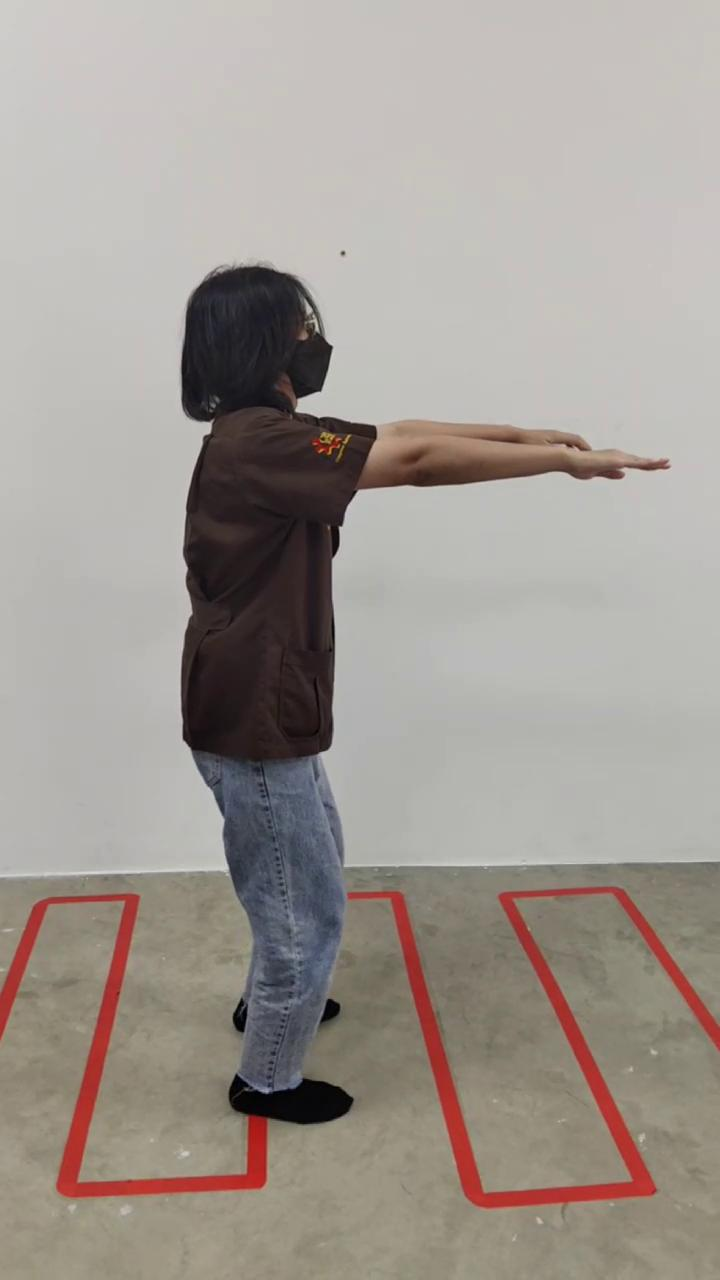squat up: (180, 268, 670, 1125)
